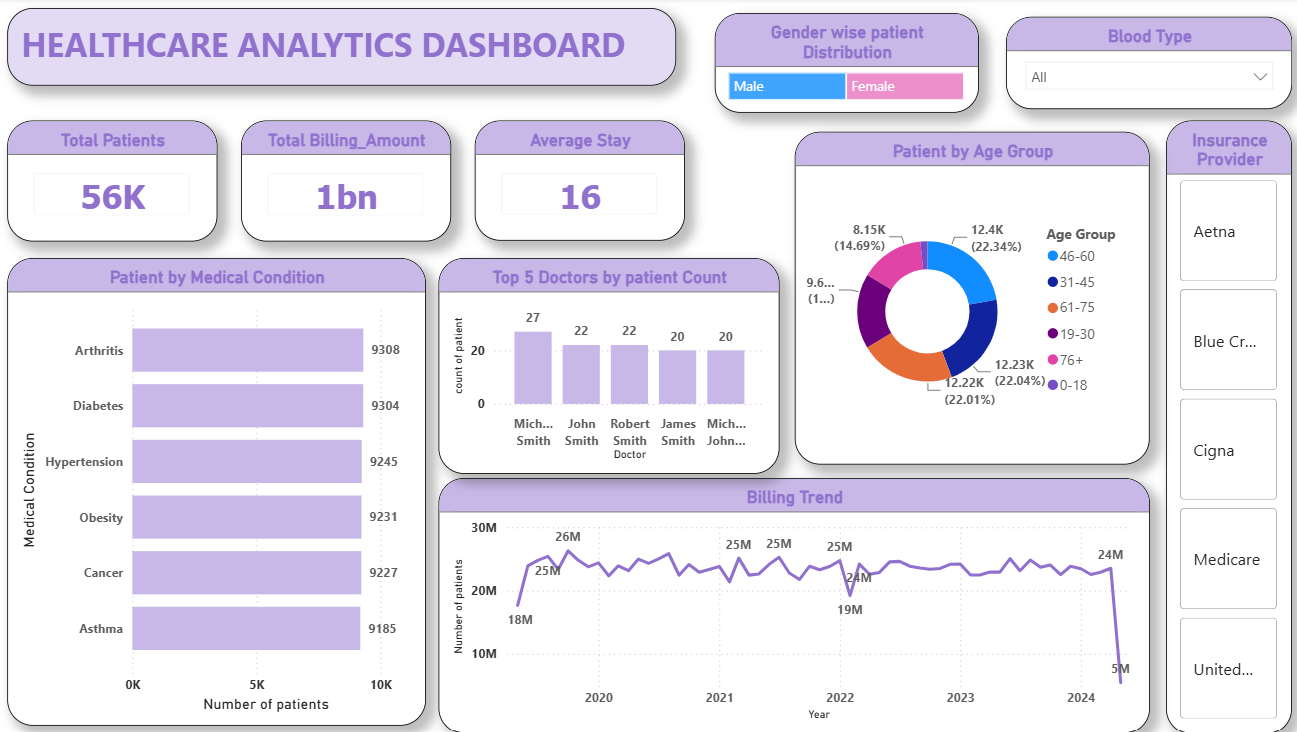

The page's visual inventory and layout, read from the dashboard file:
{"tool":"powerbi","page":{"name":"Page 1","canvas":[1280,720],"ordinal":0},"visuals":[{"type":"cardVisual","title":"Total Patients","fields":{"Data":["healthcare_dataset.Total_patient"]},"box":[15.9,119.8,227.4,118.6],"z":0},{"type":"treemap","title":"Gender wise patient Distribution","fields":{"Group":["healthcare_dataset.Gender"],"Values":["CountNonNull(healthcare_dataset.Name)"]},"box":[702.6,22,258,129],"z":1000},{"type":"slicer","title":"Blood Type","fields":{"Values":["healthcare_dataset.Blood Type"]},"box":[981.9,22,280,90.5],"z":2000},{"type":"advancedSlicerVisual","fields":{"Values":["healthcare_dataset.Insurance Provider"]},"box":[462.4,263.5,356.8,186.6],"z":3000},{"type":"cardVisual","title":"Total Billing_Amount","fields":{"Data":["healthcare_dataset.Total_BillingAmount"]},"box":[253.1,112.5,222.6,133.3],"z":4000},{"type":"clusteredBarChart","title":"Patient by Medical Condition","fields":{"Category":["healthcare_dataset.Medical Condition"],"Y":["CountNonNull(healthcare_dataset.Name)"]},"box":[15.9,262.9,423.1,429.2],"z":5000},{"type":"donutChart","title":"Patient by Age Group","fields":{"Category":["healthcare_dataset.Age Group"],"Y":["CountNonNull(healthcare_dataset.Name)"]},"box":[465.2,472,354,231.9],"z":6000},{"type":"lineChart","title":"Billing Trend","fields":{"Y":["healthcare_dataset.Total_BillingAmount"],"Category":["healthcare_dataset.Date of Admission.Variation.Date Hierarchy.Year","healthcare_dataset.Date of Admission.Variation.Date Hierarchy.Month"]},"box":[831.5,396.2,441.4,306.9],"z":7000},{"type":"cardVisual","title":"Average Length of Stay","fields":{"Data":["healthcare_dataset.avg stay"]},"box":[487.9,112.5,196.9,133.3],"z":8000},{"type":"textbox","box":[15.9,22,654.2,75.8],"z":9000},{"type":"clusteredColumnChart","title":"Top 5 Doctors","fields":{"Y":["CountNonNull(healthcare_dataset.Name)"],"Category":["healthcare_dataset.Doctor"]},"box":[845.3,166,415.8,211.3],"z":10000}]}

Visuals, with their boxes in screenshot pixels (x1, y1, x2, y2), scaled from the page's 1280x720 canvas onto the 1297x732 screenshot:
"Total Patients" cardVisual: (x1=16, y1=122, x2=247, y2=242)
"Gender wise patient Distribution" treemap: (x1=712, y1=22, x2=973, y2=154)
"Blood Type" slicer: (x1=995, y1=22, x2=1279, y2=114)
advancedSlicerVisual - healthcare_dataset.Insurance Provider: (x1=469, y1=268, x2=830, y2=458)
"Total Billing_Amount" cardVisual: (x1=256, y1=114, x2=482, y2=250)
"Patient by Medical Condition" clusteredBarChart: (x1=16, y1=267, x2=445, y2=704)
"Patient by Age Group" donutChart: (x1=471, y1=480, x2=830, y2=716)
"Billing Trend" lineChart: (x1=843, y1=403, x2=1290, y2=715)
"Average Length of Stay" cardVisual: (x1=494, y1=114, x2=694, y2=250)
textbox: (x1=16, y1=22, x2=679, y2=99)
"Top 5 Doctors" clusteredColumnChart: (x1=857, y1=169, x2=1278, y2=384)
